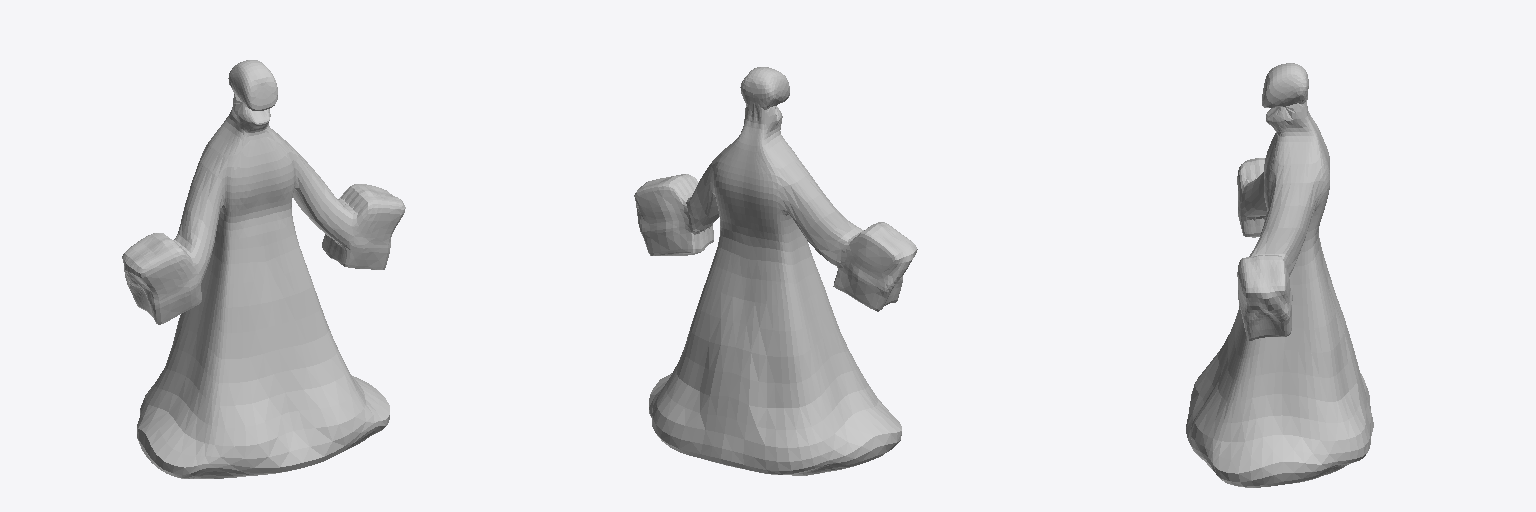
File: water_monster.obj
The picture shows the model from 3 angles: view 1: azimuth 30°, elevation 25°; view 2: azimuth 150°, elevation 25°; view 3: azimuth 270°, elevation 25°; orthographic projection.
Visible parts, largest first — view 1: Cube; view 2: Cube; view 3: Cube.
Boxes of the visible parts, box(x1,y1,x2,y2) form: Cube: box(122, 60, 405, 478); Cube: box(634, 67, 917, 475); Cube: box(1186, 63, 1373, 487).
Size of the model in its own units: 9.2 by 12.26 by 5.48.